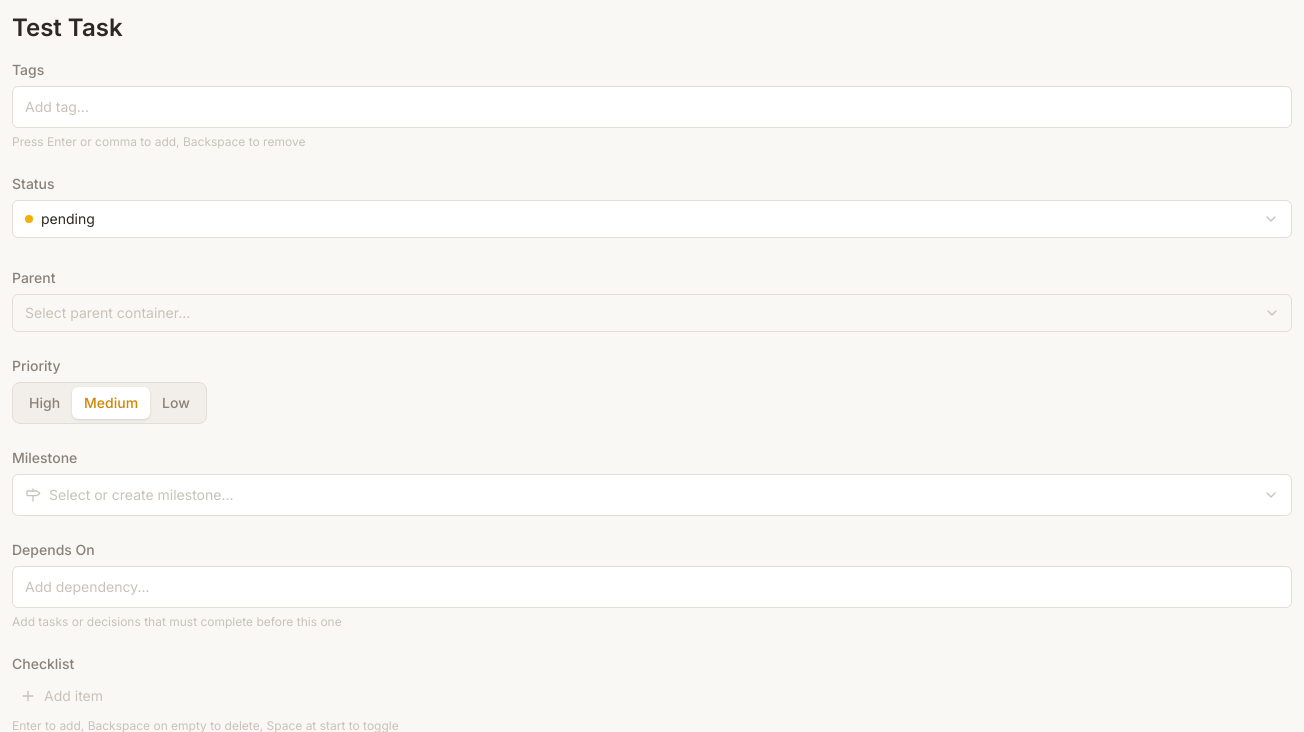
Test: FrontmatterEditor › supports available tags for autocomplete
Type "des" into the field labelled "Tags" at (652, 107), box [21,93,1283,121]
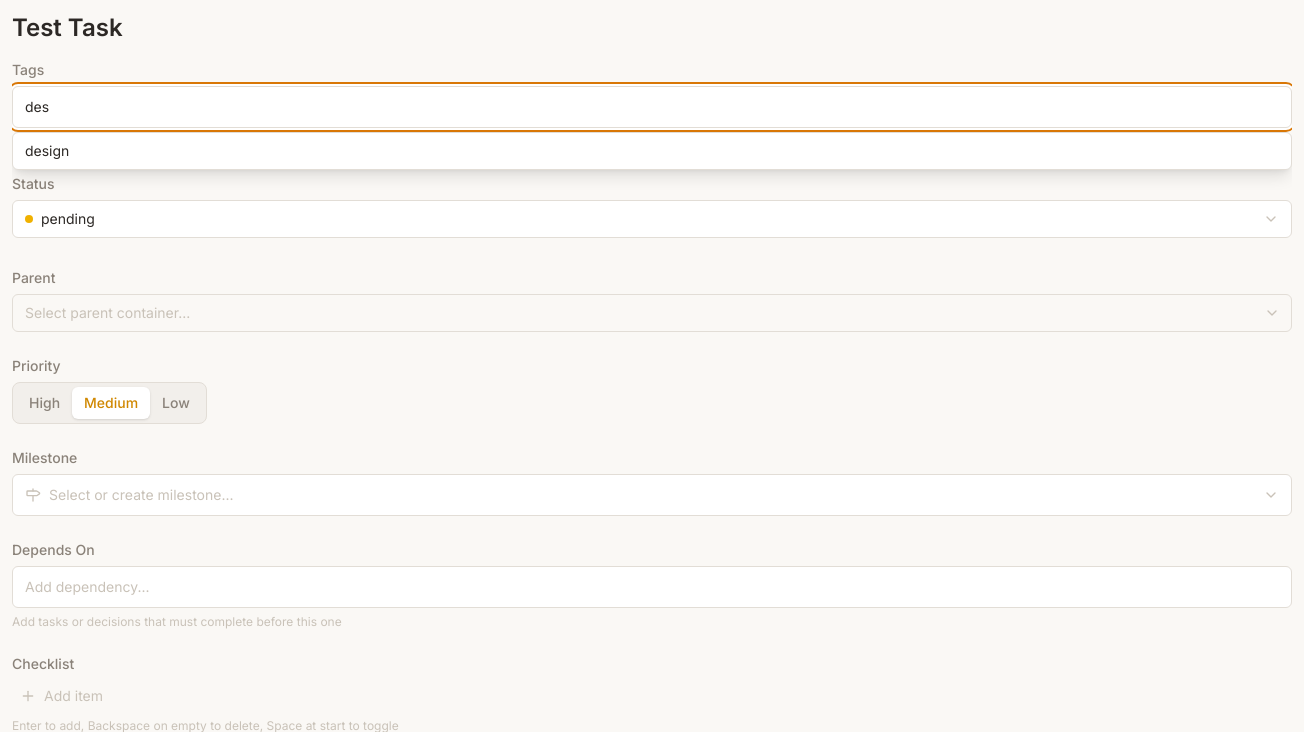
Now the option "design" is shown, box [25,142,69,159]
